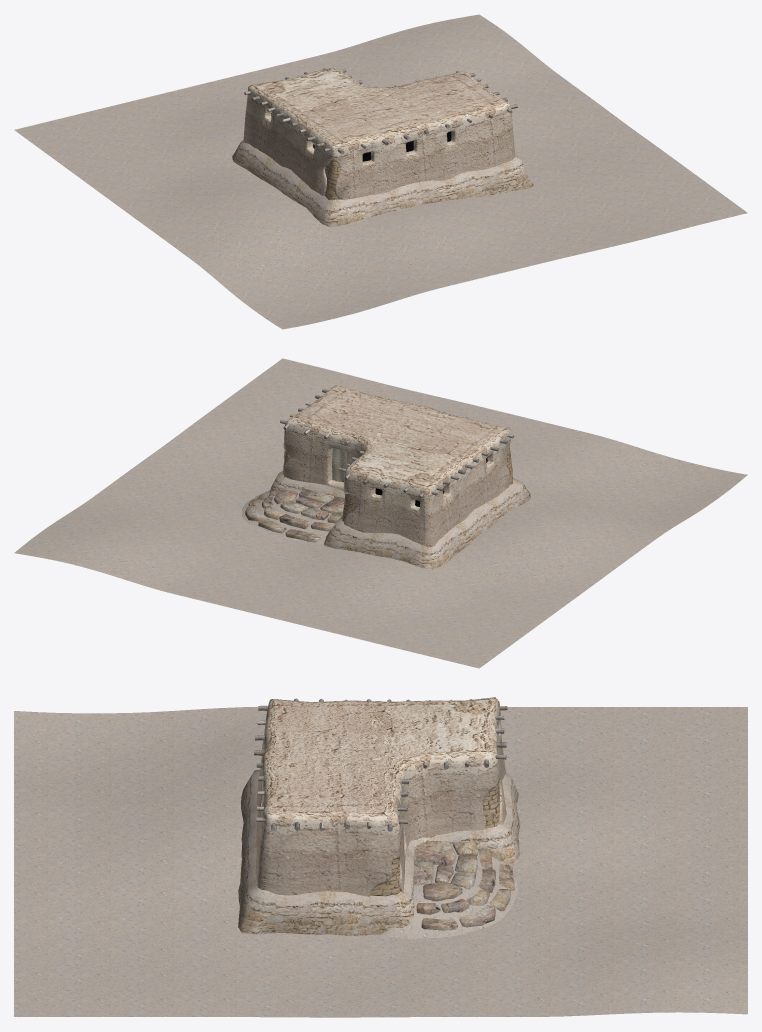
3 renders of one model, top to bottom at view 1: azimuth 30°, elevation 25°; view 2: azimuth 150°, elevation 25°; view 3: azimuth 270°, elevation 25°, orthographic. The views are drawn at different scales.
Parts seen in each view (by area): view 1: GROUND, DESERT_HOUSE_01; view 2: GROUND, DESERT_HOUSE_01; view 3: GROUND, DESERT_HOUSE_01.
Boxes of the visible parts, left/top/right/bottom form: GROUND: left=14, top=14, right=747, bottom=329; DESERT_HOUSE_01: left=232, top=68, right=533, bottom=227; GROUND: left=14, top=358, right=747, bottom=668; DESERT_HOUSE_01: left=242, top=385, right=530, bottom=569; GROUND: left=14, top=707, right=747, bottom=1017; DESERT_HOUSE_01: left=238, top=697, right=520, bottom=939.
Size of the model in its own units: 3000 by 536 by 3000.
Materials: 8 (7 with a texture image).
